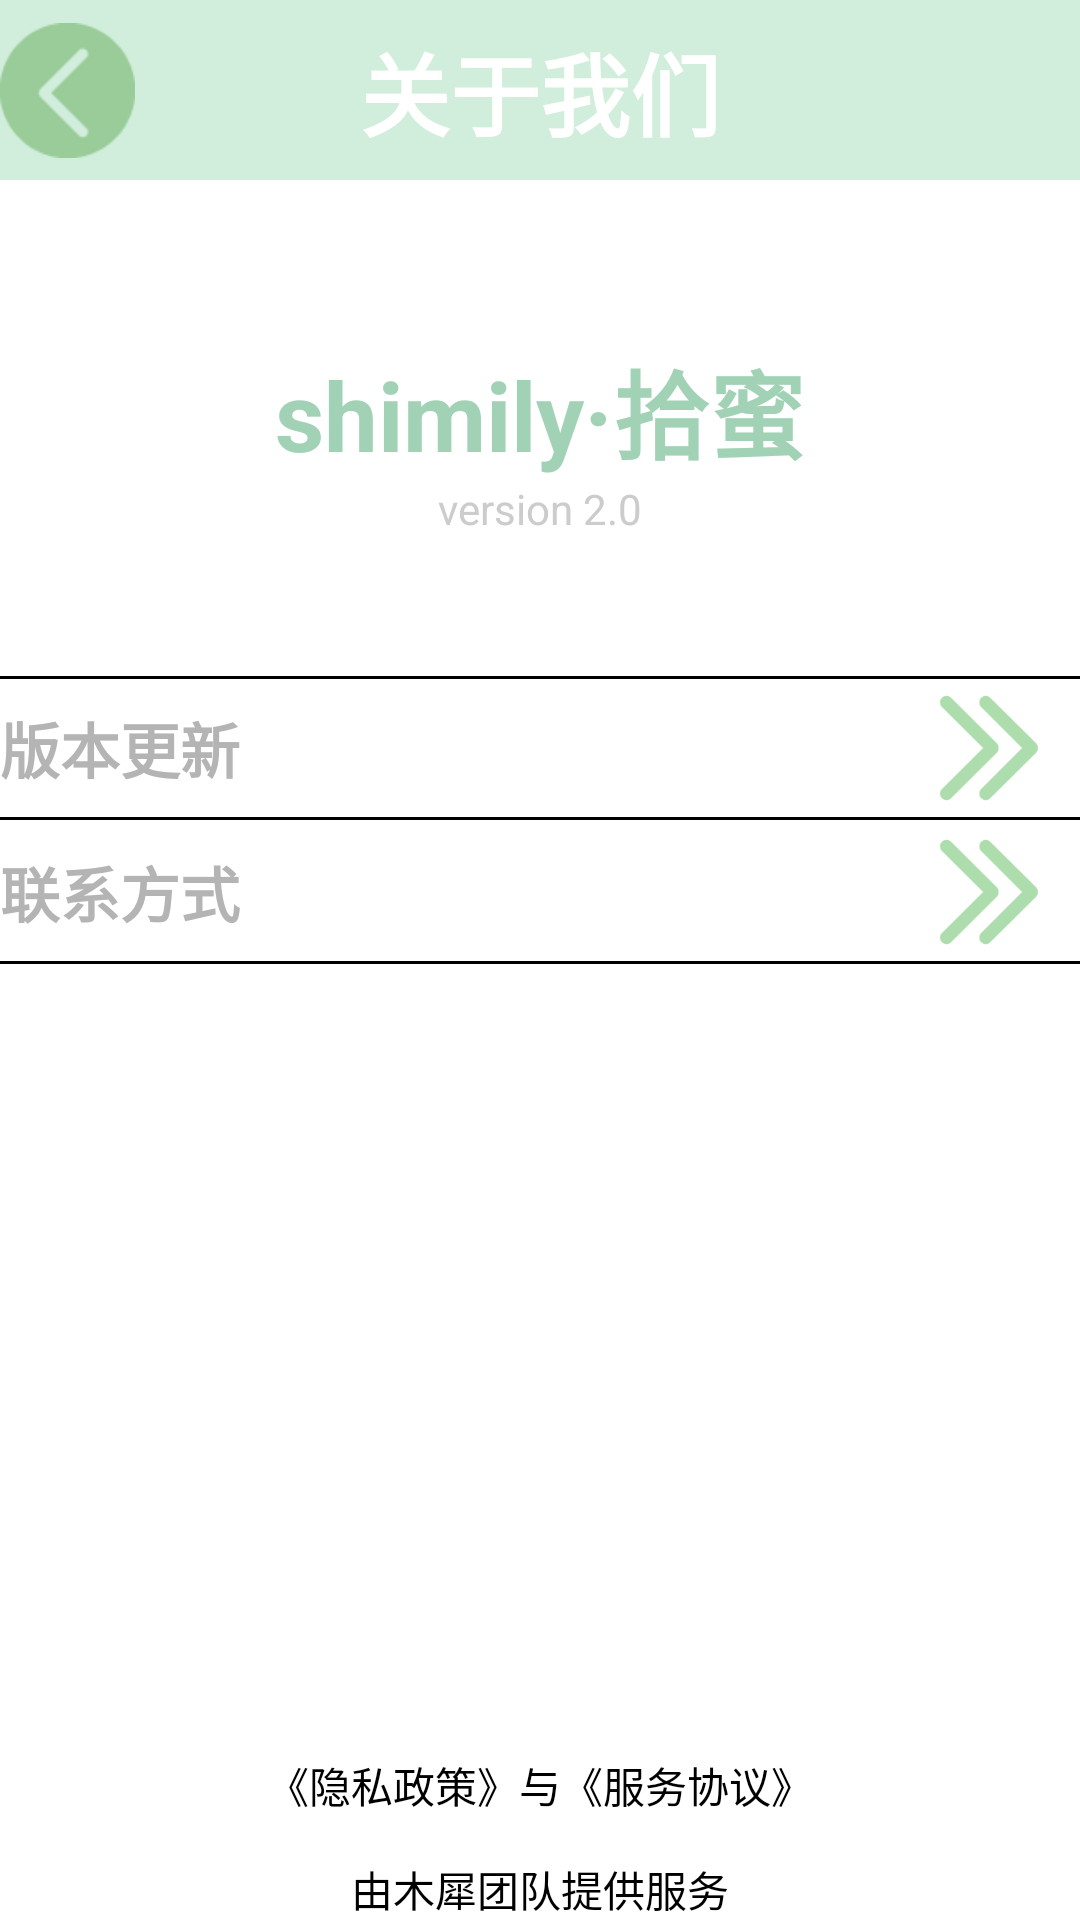

Where to tap for icons on this 1080px x 1920px app screen, as (x,y):
arrow back: (67,90)
arrow next: (989,748), (989,892)
